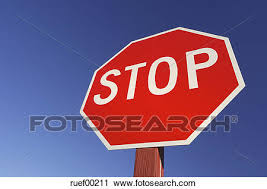Stop: (77, 16, 257, 159)
